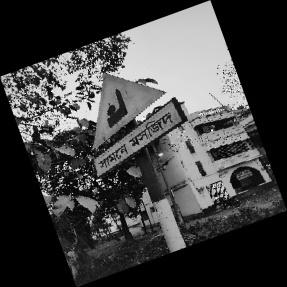Mosque in front: (90, 71, 188, 180)
